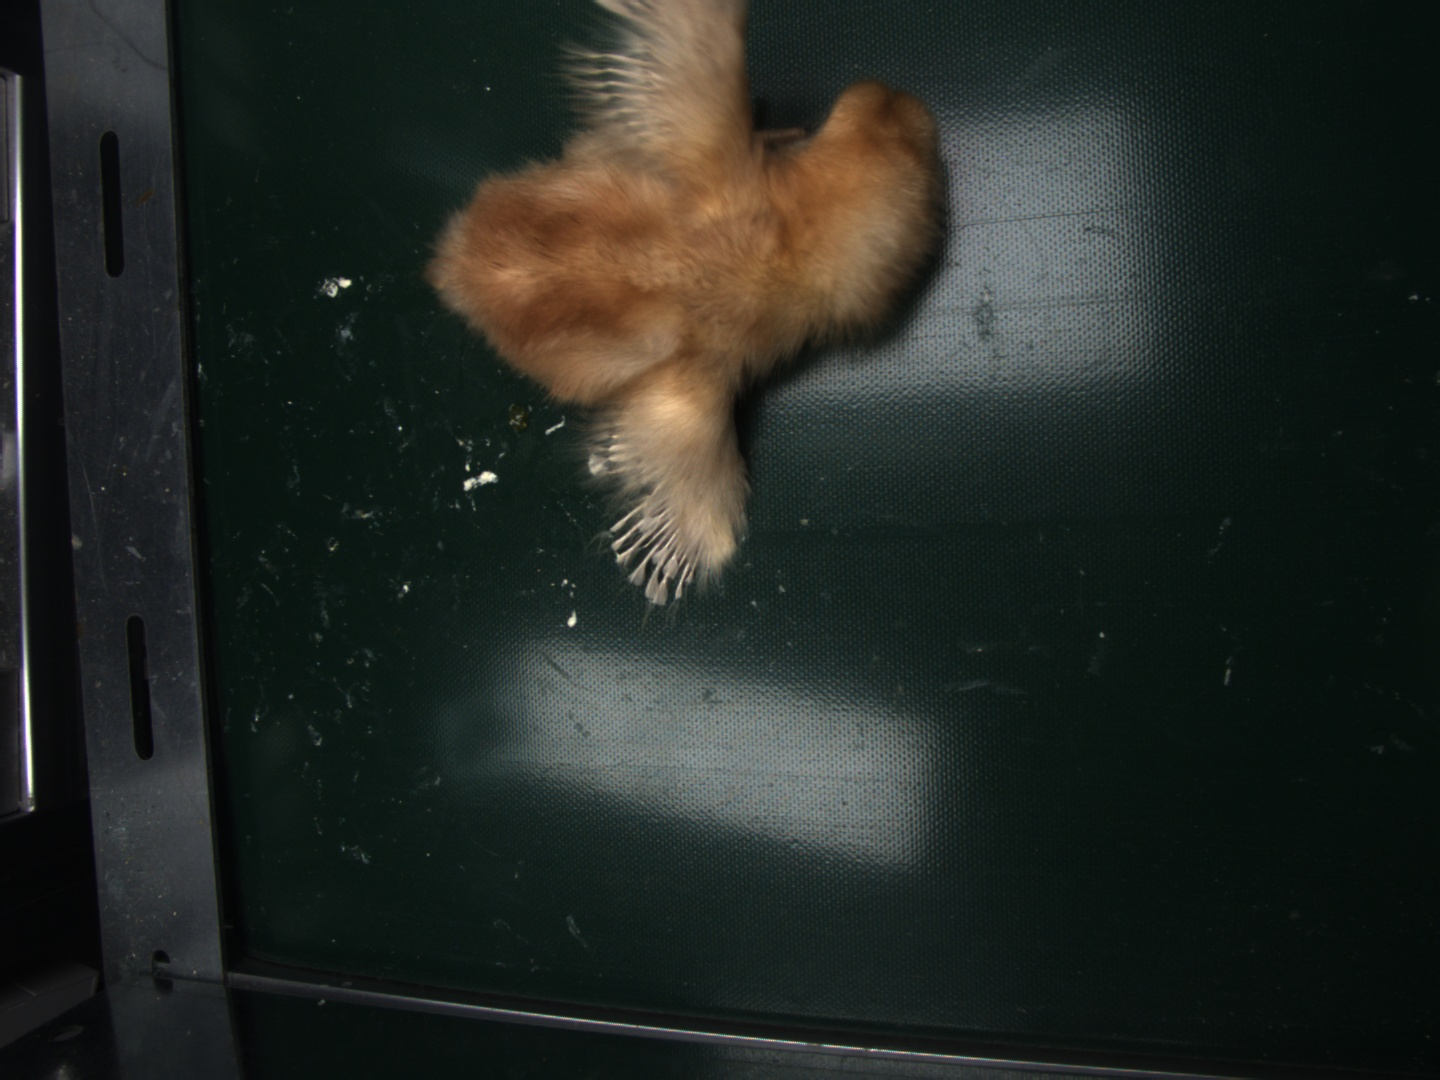female: (615, 497, 697, 606)
